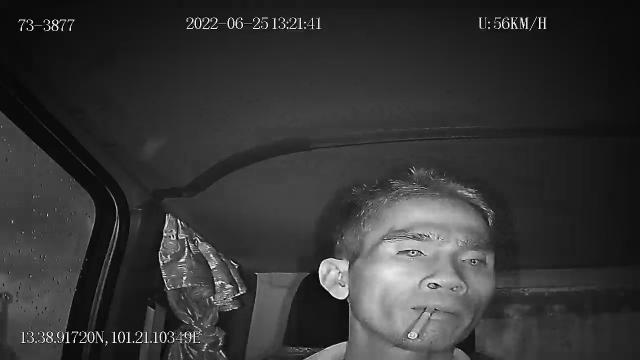SafeDriving: (390, 239, 434, 263), (454, 248, 494, 270)
Smoking: (409, 307, 435, 340)
